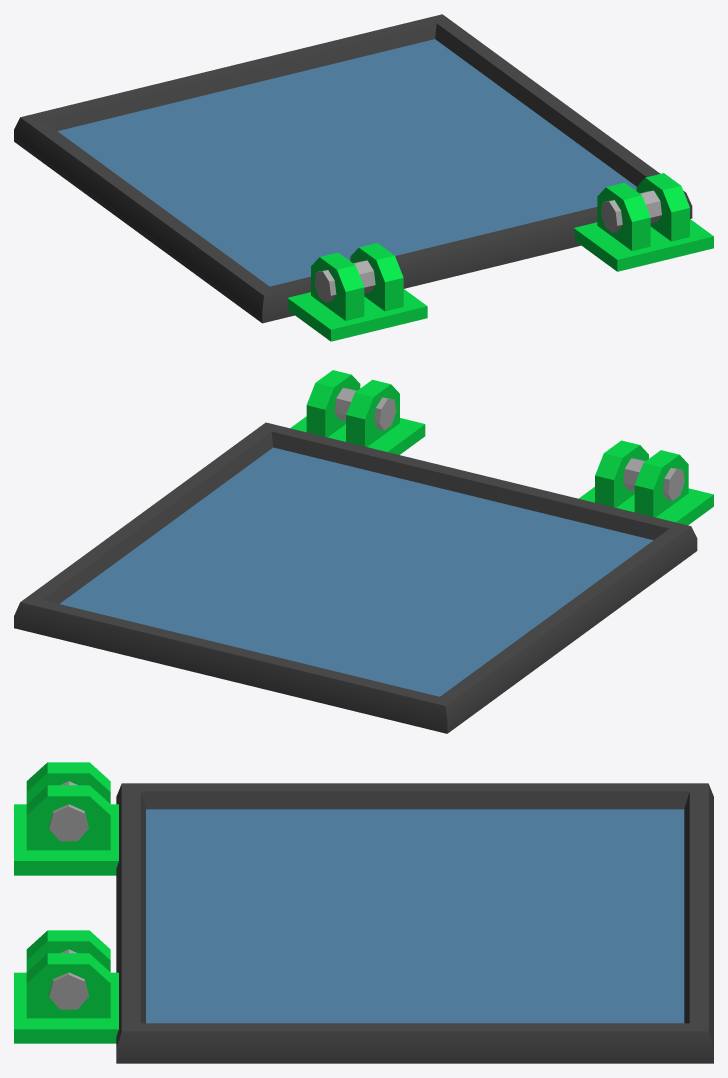
Rendered from trappe.fbx.
3 renders of one model, top to bottom at view 1: azimuth 30°, elevation 25°; view 2: azimuth 150°, elevation 25°; view 3: azimuth 270°, elevation 25°, orthographic. The views are drawn at different scales.
Parts seen in each view (by area): view 1: trappe; view 2: trappe; view 3: trappe.
Boxes of the visible parts, bbox=[...] form: trappe: bbox=[14, 14, 713, 341]; trappe: bbox=[14, 370, 713, 733]; trappe: bbox=[14, 762, 713, 1063].
Bounding box in the file's own units: 139 × 19.56 × 163.
